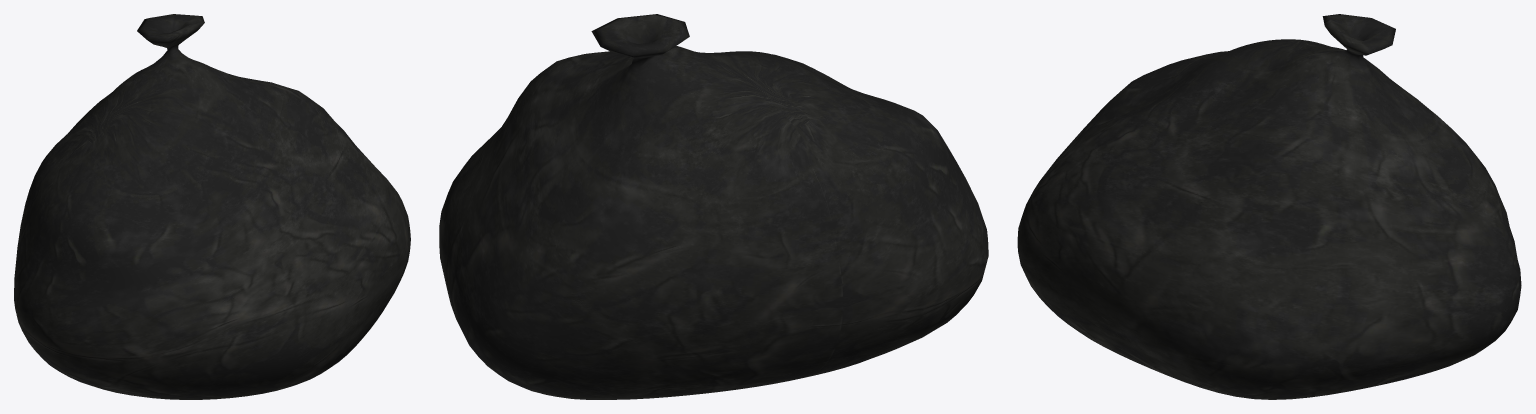
Rendered from trash bag.fbx.
3 views of the same model, side by side, from view 1: azimuth 30°, elevation 25°; view 2: azimuth 150°, elevation 25°; view 3: azimuth 270°, elevation 25° (orthographic). The views are drawn at different scales.
Visible parts, largest first — view 1: Sphere; view 2: Sphere; view 3: Sphere.
Boxes of the visible parts, x1=… form: Sphere: x1=14, y1=14, x2=410, y2=399; Sphere: x1=439, y1=14, x2=988, y2=399; Sphere: x1=1017, y1=14, x2=1521, y2=399.
Size of the model in its own units: 270 by 191 by 273.
